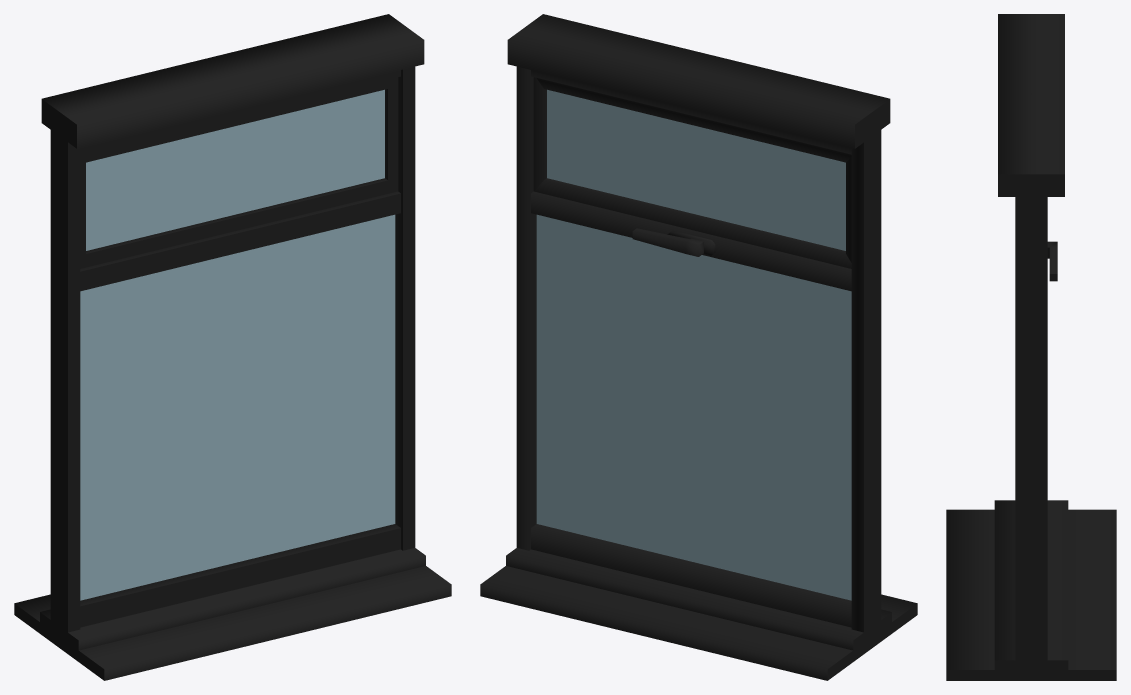
The model's file is G_Window_006_S1.FBX.
The picture shows the model from 3 angles, left to right: view 1: azimuth 30°, elevation 25°; view 2: azimuth 150°, elevation 25°; view 3: azimuth 270°, elevation 25°; orthographic projection. The views are drawn at different scales.
Parts seen in each view (by area): view 1: S_M_Ornament_Window006_2x1x3_LOD; view 2: S_M_Ornament_Window006_2x1x3_LOD; view 3: S_M_Ornament_Window006_2x1x3_LOD.
Part boxes in pixels (x1,y1,x2,y2): S_M_Ornament_Window006_2x1x3_LOD: (14,14,451,680); S_M_Ornament_Window006_2x1x3_LOD: (480,14,917,680); S_M_Ornament_Window006_2x1x3_LOD: (946,14,1116,680).
Size of the model in its own units: 200 by 295 by 90.
